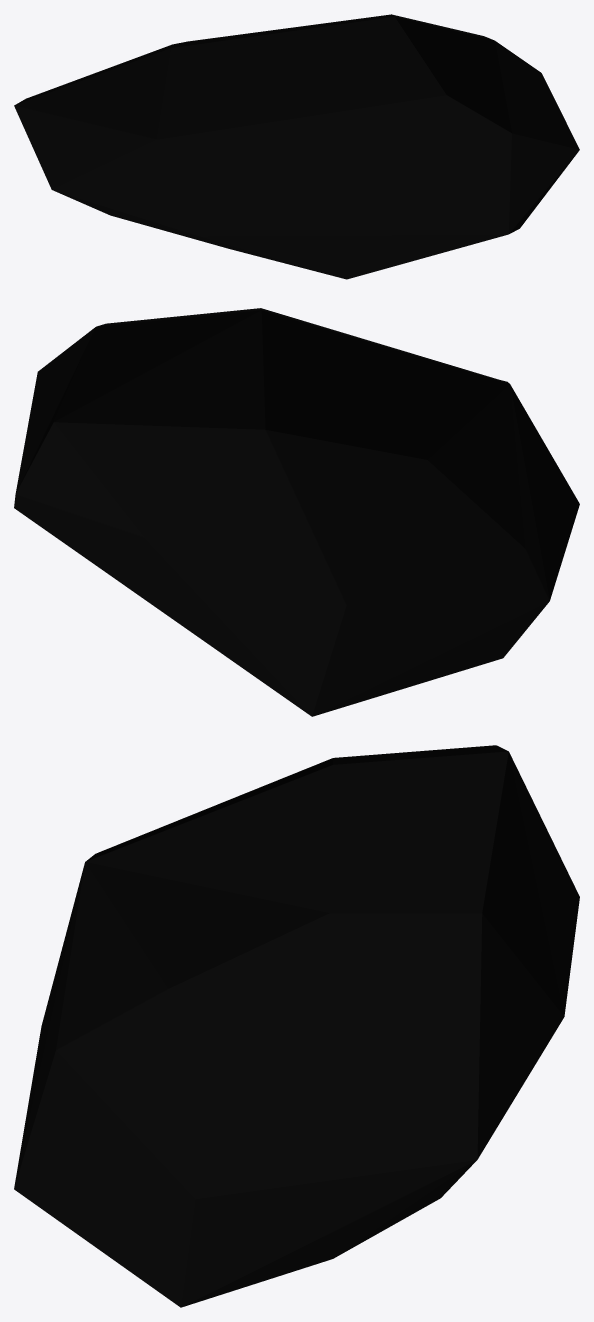
3 views of the same model, one above another, from view 1: azimuth 30°, elevation 25°; view 2: azimuth 150°, elevation 25°; view 3: azimuth 270°, elevation 25° (orthographic). The views are drawn at different scales.
Bounding box in the file's own units: 0.4519 × 0.1622 × 0.2947.
1 material, 1 textured.
